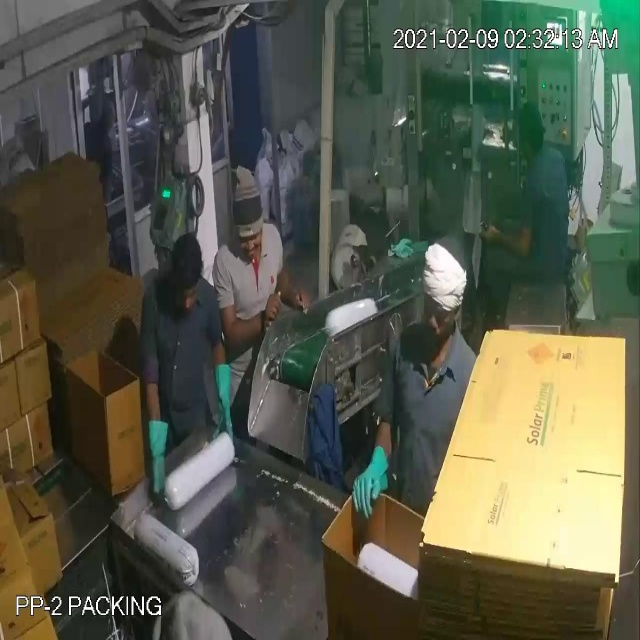Guantes: (132, 405, 181, 513), (203, 362, 249, 467), (344, 448, 399, 527)
Sin_guantes: (216, 285, 288, 345), (480, 205, 539, 276), (268, 261, 314, 324)
